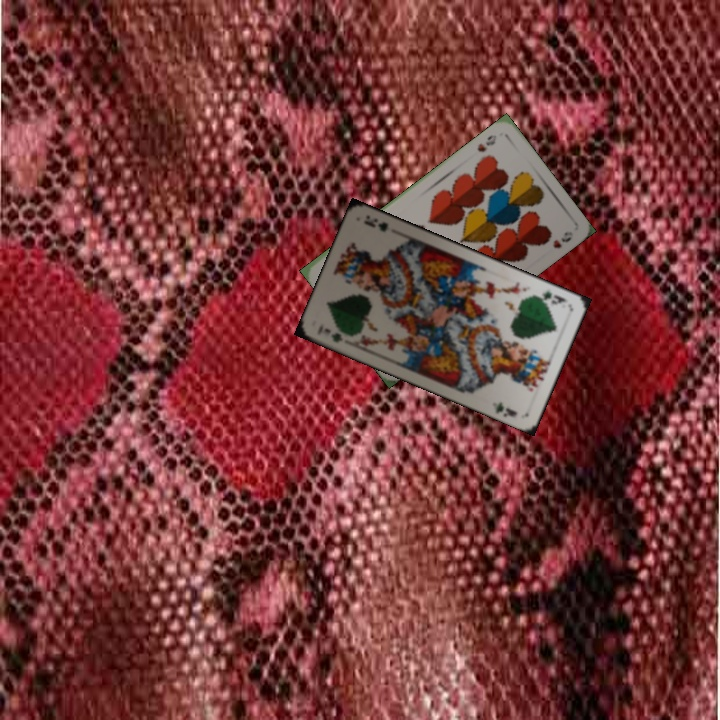GK: (531, 286, 569, 308), (320, 324, 345, 345)
H9: (473, 131, 499, 155)
